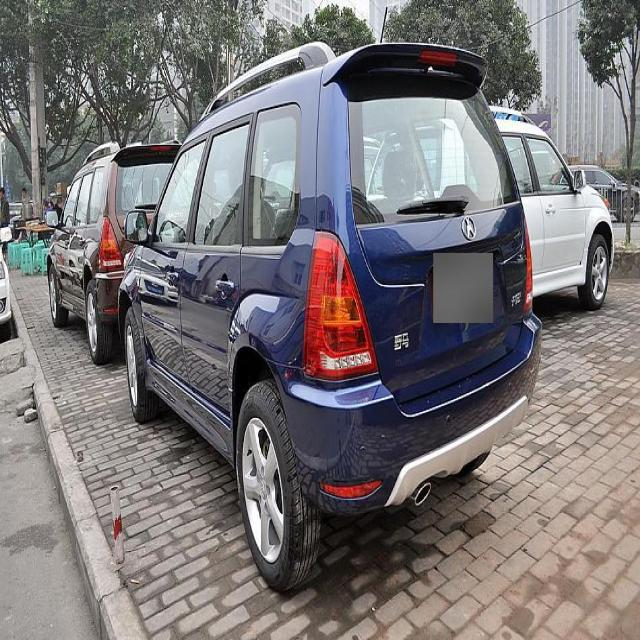back_glass: (349, 63, 521, 222)
back_left_side_light: (302, 225, 379, 387)
back_right_side_light: (522, 209, 535, 322)
door: (186, 110, 253, 394)
front_left_side_door: (138, 128, 210, 403)
front_left_side_mirror: (122, 203, 149, 245)
rear_bumper: (270, 310, 541, 514)
wheel: (238, 385, 314, 591), (125, 310, 152, 417)
